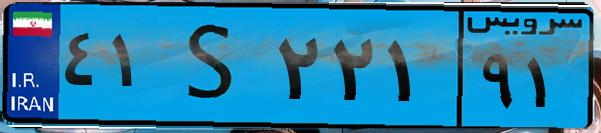1: (385, 28, 445, 110), (525, 38, 570, 115), (110, 28, 158, 98)
2: (270, 28, 330, 110), (330, 28, 385, 110)
4: (57, 26, 110, 100)
9: (475, 38, 525, 113)
S: (158, 12, 270, 120)
